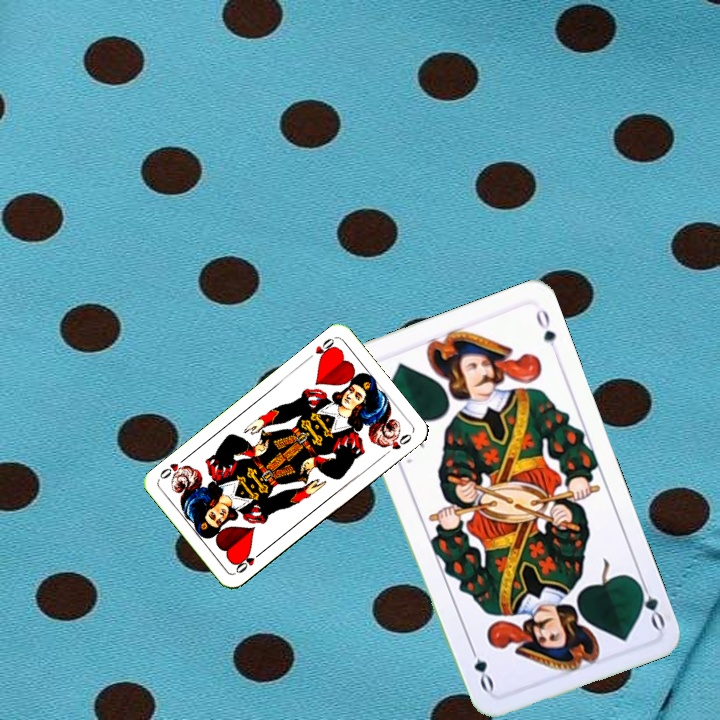GO: (631, 574, 668, 632)
HO: (302, 334, 339, 364), (231, 547, 266, 576)
